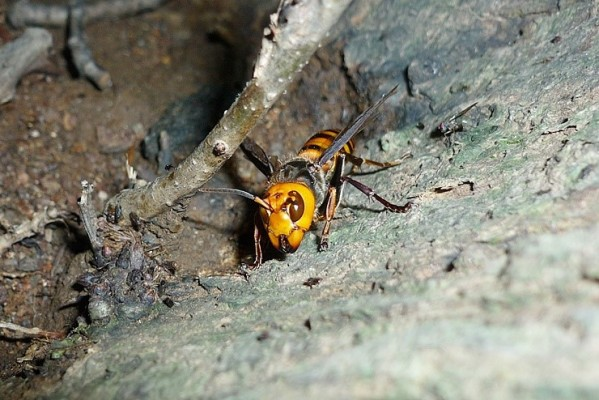asian_giant_hornet: (239, 126, 367, 270)
